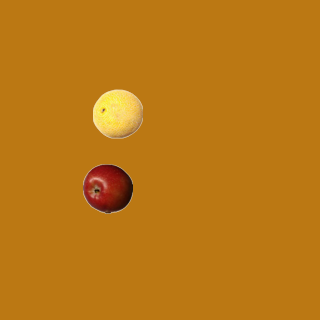Apple Braeburn: (82, 163, 132, 213)
Cantaloupe 1: (92, 88, 142, 138)
